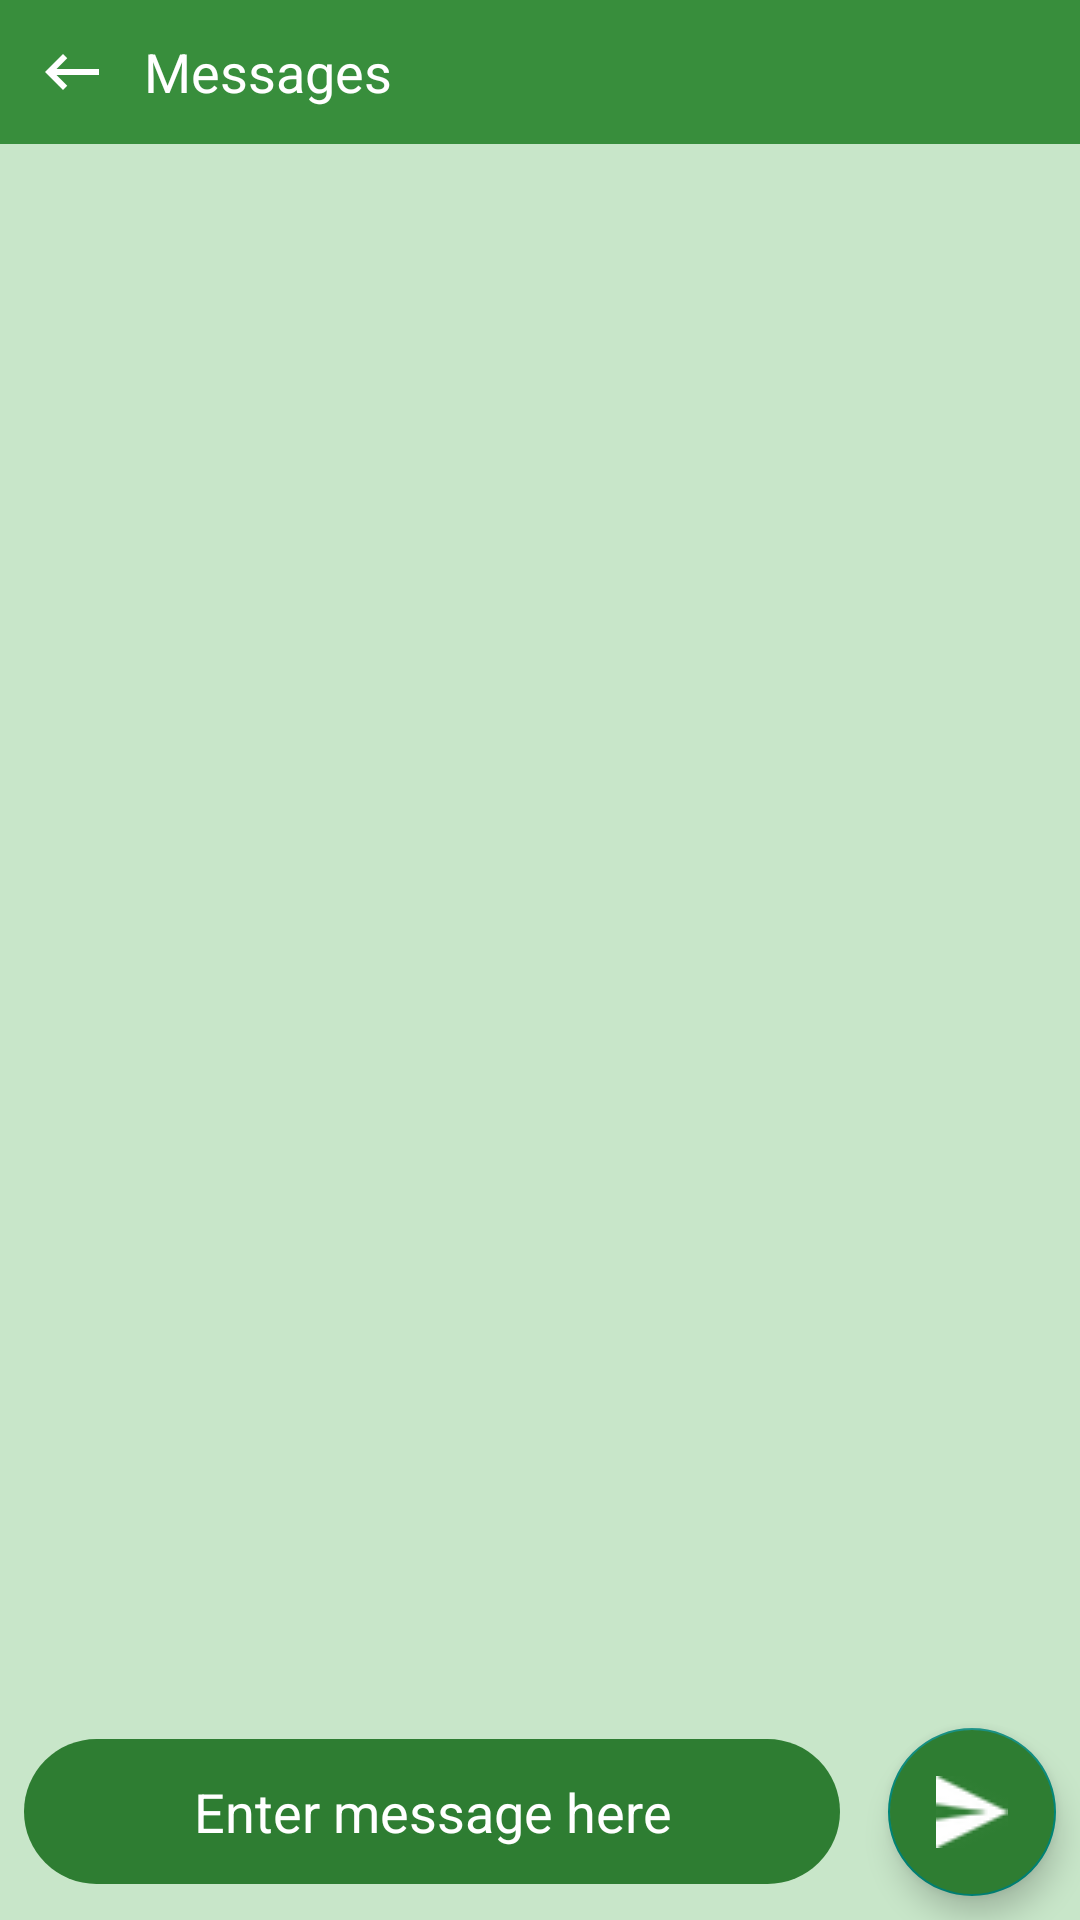

Screen size 1080 x 1920. Icon name, then its center in pixels as point (x, y):
keyboard backspace: point (72, 72)
